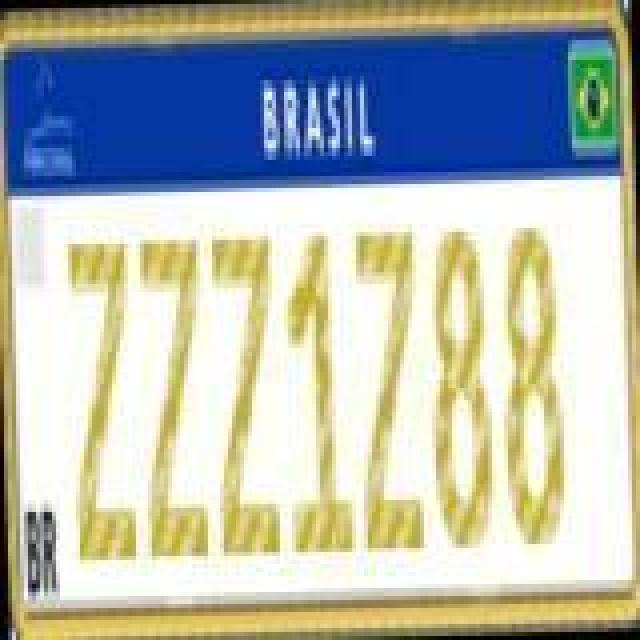1: (282, 224, 358, 560)
8: (498, 216, 574, 552), (422, 218, 498, 550)
Z: (356, 228, 428, 564), (68, 234, 140, 566), (140, 234, 212, 566), (212, 226, 284, 558)
